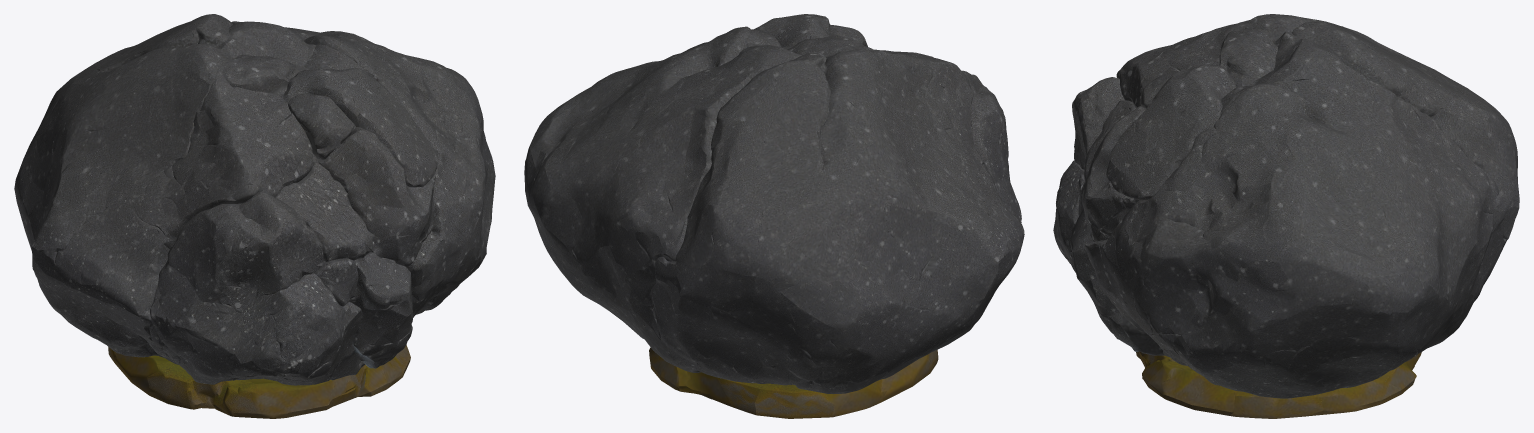
File: rock-source.glb
3 views of the same model, side by side, from view 1: azimuth 30°, elevation 25°; view 2: azimuth 150°, elevation 25°; view 3: azimuth 270°, elevation 25° (orthographic).
Bounding box in the file's own units: 1.9 × 1.3 × 1.73.
Materials: 1 (1 with a texture image).
